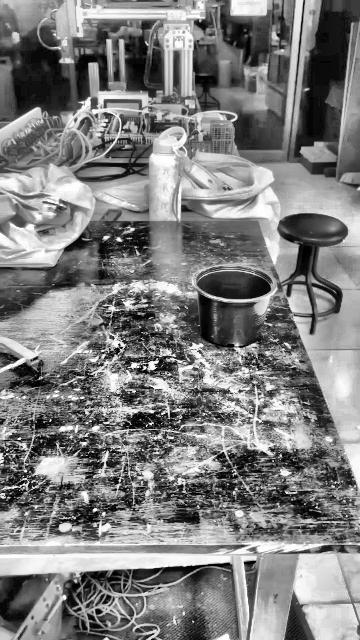pot: (195, 265, 279, 347)
